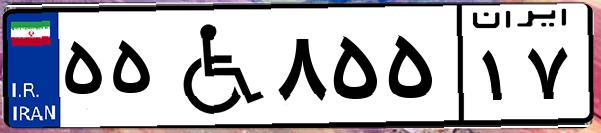1: (475, 38, 525, 113)
5: (385, 28, 445, 110), (330, 28, 385, 110), (57, 26, 110, 100), (110, 28, 158, 98)
7: (525, 38, 570, 115)
8: (270, 28, 330, 110)
ژ (معلولین و جانبازان): (158, 12, 270, 120)
